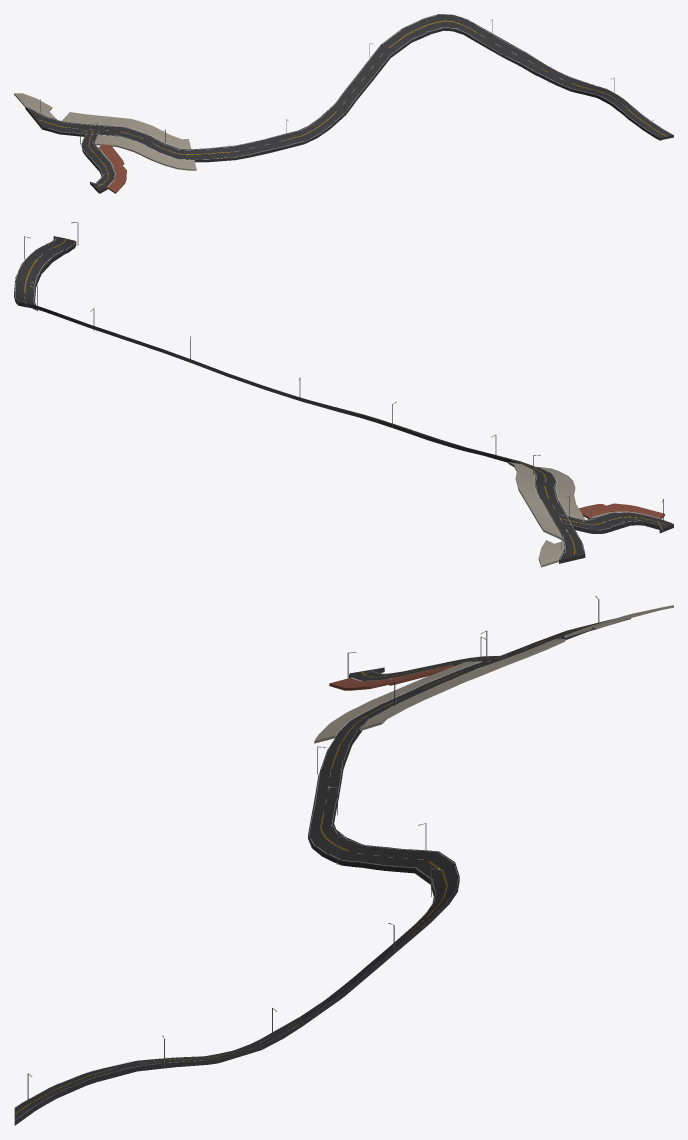
3 renders of one model, top to bottom at view 1: azimuth 30°, elevation 25°; view 2: azimuth 150°, elevation 25°; view 3: azimuth 270°, elevation 25°, orthographic. The views are drawn at different scales.
Bounding box in the file's own units: 262 × 36.38 × 161.
